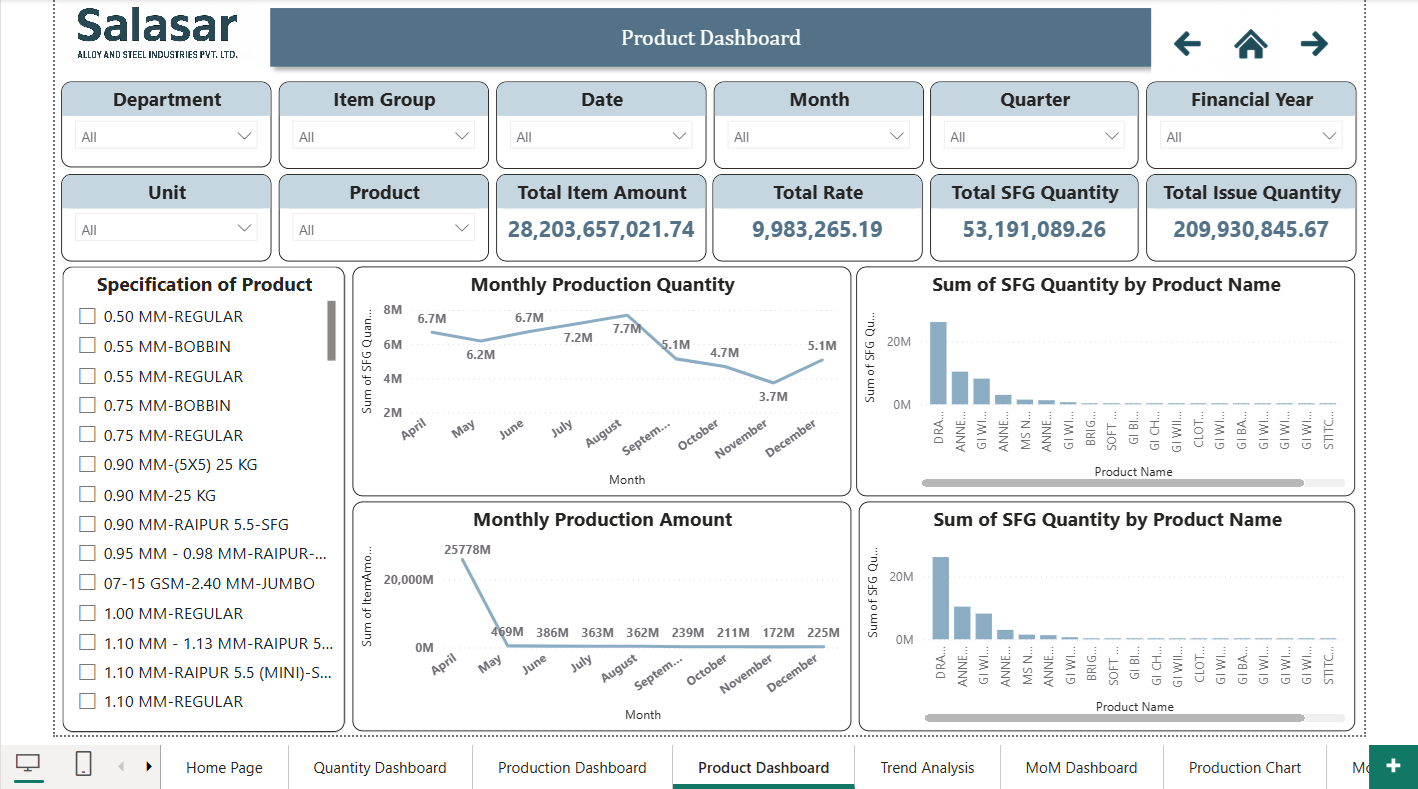

Layout of this report page (visuals, bound fields, positions):
{"tool":"powerbi","page":{"name":"Product Dashboard","canvas":[1280,720],"ordinal":3},"visuals":[{"type":"image","box":[1130.2,3.8,80,80],"z":0,"group":"g1"},{"type":"slicer","title":"Specification of Product","fields":{"Values":["Sheet 1.Product Specification"]},"box":[7.6,261.7,276.4,454.9],"z":0},{"type":"image","box":[1067.7,3.8,80,80],"z":1000,"group":"g1"},{"type":"lineChart","title":"Monthly Production Quantity","fields":{"Y":["Sum(Sheet 1.SFG Quantity)"],"Category":["Calendar.Month"]},"box":[291.3,261.7,487.9,225],"z":1000},{"type":"image","box":[1192.7,3.8,80,80],"z":2000,"group":"g1"},{"type":"lineChart","title":"Monthly Production Amount","fields":{"Y":["Sum(Sheet 1.ItemAmount)"],"Category":["Calendar.Month"]},"box":[291.3,491.6,487.9,225],"z":2000},{"type":"columnChart","fields":{"Y":["Sum(Sheet 1.SFG Quantity)"],"Category":["Sheet 1.Product Name"]},"box":[784.1,261.7,487.9,225],"z":3000},{"type":"columnChart","fields":{"Category":["Sheet 1.Product Name"],"Y":["Sum(Sheet 1.SFG Quantity)"]},"box":[786.6,491.6,485.5,225],"z":4000},{"type":"slicer","title":"Department","fields":{"Values":["Sheet 1.Department Name"]},"box":[6.5,81,205.4,84.4],"z":5000},{"type":"slicer","title":"Item Group","fields":{"Values":["Sheet 1.Item Group Name"]},"box":[218.9,81,205.4,85.6],"z":6000},{"type":"slicer","title":"Date","fields":{"Values":["Sheet 1.Doc Date"]},"box":[431.4,81,205.4,85.6],"z":7000},{"type":"slicer","title":"Month","fields":{"Values":["Calendar.Month"]},"box":[644,81,205.4,85.6],"z":8000},{"type":"slicer","title":"Quarter","fields":{"Values":["Calendar.Qtr"]},"box":[856.5,81,204.2,85.6],"z":9000},{"type":"slicer","title":"Financial Year","fields":{"Values":["Calendar.Fiscal Year"]},"box":[1067.8,81,205.4,85.6],"z":10000},{"type":"slicer","title":"Unit","fields":{"Values":["Sheet 1.unit"]},"box":[6.4,171.2,205.4,85.6],"z":11000},{"type":"card","title":"Total Item Amount ","fields":{"Values":["Sum(Sheet 1.ItemAmount)"]},"box":[431.9,171.2,205.4,85.6],"z":12000},{"type":"card","title":"Total Rate","fields":{"Values":["Sum(Sheet 1.Rate)"]},"box":[643.5,171,205.4,85.6],"z":13000},{"type":"card","title":"Total SFG Quantity","fields":{"Values":["Sum(Sheet 1.SFG Quantity)"]},"box":[856.3,171.2,204.2,85.6],"z":14000},{"type":"card","title":"Total Issue Quantity","fields":{"Values":["Sum(Sheet 1.Issue Quantity)"]},"box":[1067.8,171.2,205.4,85.6],"z":15000},{"type":"slicer","title":"Product","fields":{"Values":["Sheet 1.Product Name"]},"box":[219.2,171.2,205.4,85.6],"z":16000},{"type":"shape","box":[201.5,0,880,75],"z":17000},{"type":"image","box":[1.5,0,199.3,66],"z":18000},{"type":"group","id":"g1","title":"Group 1","box":[1067.7,3.8,205,80],"z":19000}]}

Visuals, with their boxes on the page's 1280x720 design canvas (x1, y1, x2, y2). These are canvas units, not pixel positions in the 1418x789 screenshot, which may show the page scaled, cropped or inside an application window:
image: <box>1130,4,1210,84</box>
"Specification of Product" slicer: <box>8,262,284,717</box>
image: <box>1068,4,1148,84</box>
"Monthly Production Quantity" lineChart: <box>291,262,779,487</box>
image: <box>1193,4,1273,84</box>
"Monthly Production Amount" lineChart: <box>291,492,779,717</box>
columnChart - Sum(Sheet 1.SFG Quantity) x Sheet 1.Product Name: <box>784,262,1272,487</box>
columnChart - Sheet 1.Product Name x Sum(Sheet 1.SFG Quantity): <box>787,492,1272,717</box>
"Department" slicer: <box>6,81,212,165</box>
"Item Group" slicer: <box>219,81,424,167</box>
"Date" slicer: <box>431,81,637,167</box>
"Month" slicer: <box>644,81,849,167</box>
"Quarter" slicer: <box>856,81,1061,167</box>
"Financial Year" slicer: <box>1068,81,1273,167</box>
"Unit" slicer: <box>6,171,212,257</box>
"Total Item Amount " card: <box>432,171,637,257</box>
"Total Rate" card: <box>644,171,849,257</box>
"Total SFG Quantity" card: <box>856,171,1060,257</box>
"Total Issue Quantity" card: <box>1068,171,1273,257</box>
"Product" slicer: <box>219,171,425,257</box>
shape: <box>202,0,1082,75</box>
image: <box>2,0,201,66</box>
"Group 1" group: <box>1068,4,1273,84</box>
